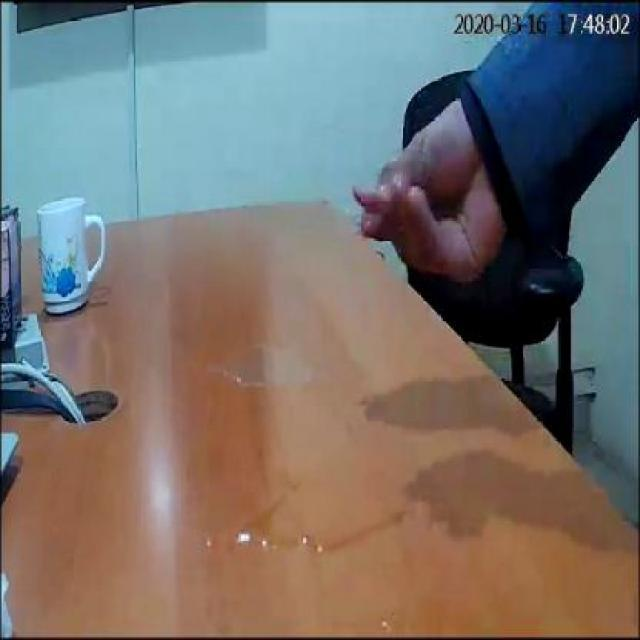spill: (239, 477, 407, 555), (212, 352, 322, 390)
